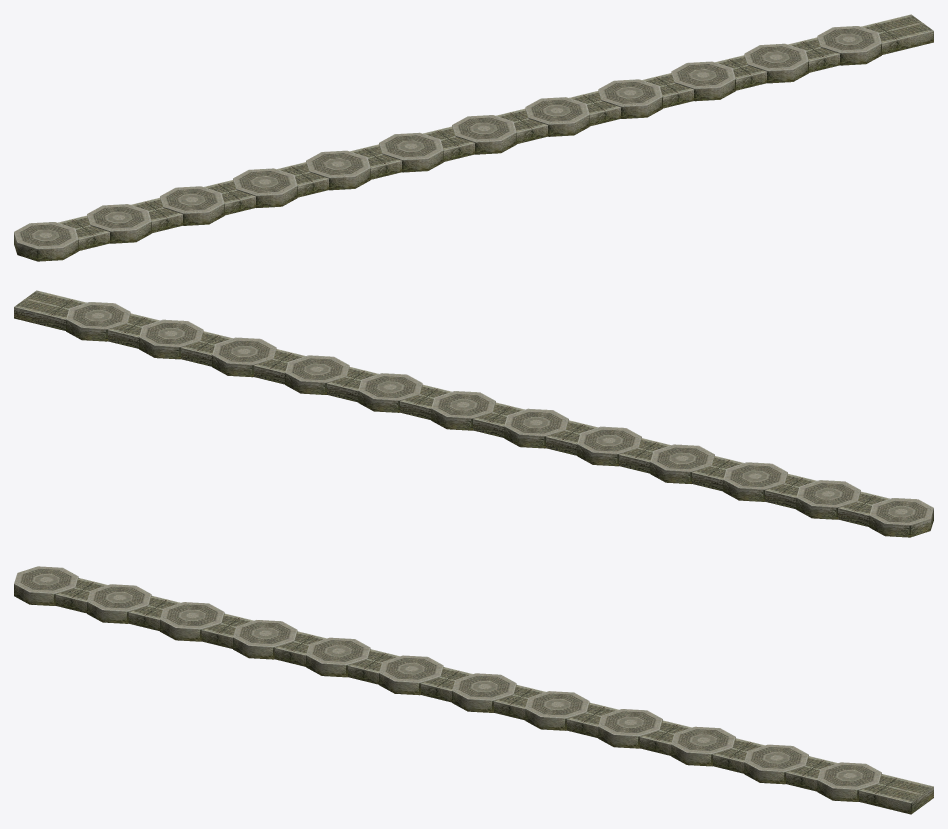
Rendered from secret_boundary_ston_03.fbx.
The picture shows the model from 3 angles, top to bottom: view 1: azimuth 30°, elevation 25°; view 2: azimuth 150°, elevation 25°; view 3: azimuth 330°, elevation 25°; orthographic projection.
Visible parts, largest first — view 1: secret_boundary ston_03; view 2: secret_boundary ston_03; view 3: secret_boundary ston_03.
Boxes of the visible parts, bbox=[...] form: secret_boundary ston_03: bbox=[14, 14, 933, 261]; secret_boundary ston_03: bbox=[14, 290, 933, 537]; secret_boundary ston_03: bbox=[14, 566, 933, 814].
Bounding box in the file's own units: 24.79 × 0.3266 × 1.59.
